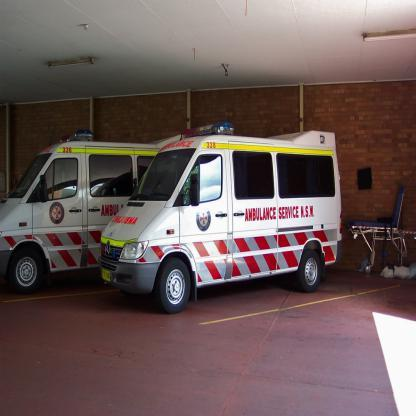truck: (100, 125, 342, 315)
